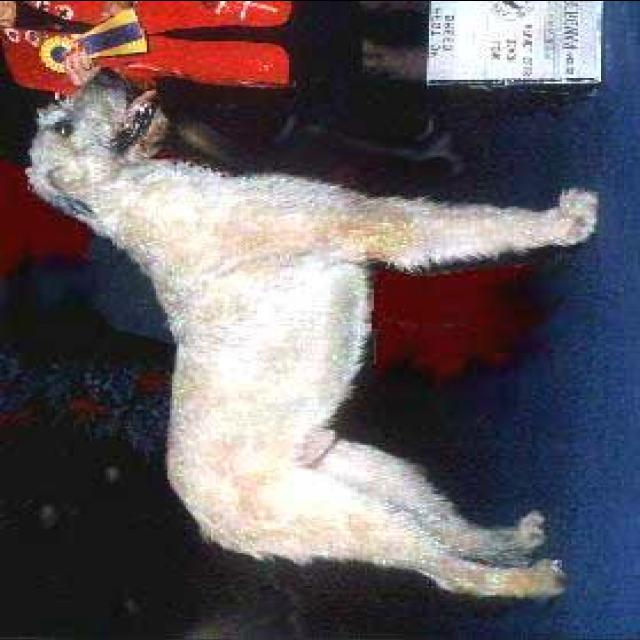irish_wolfhound: (28, 66, 594, 592)
